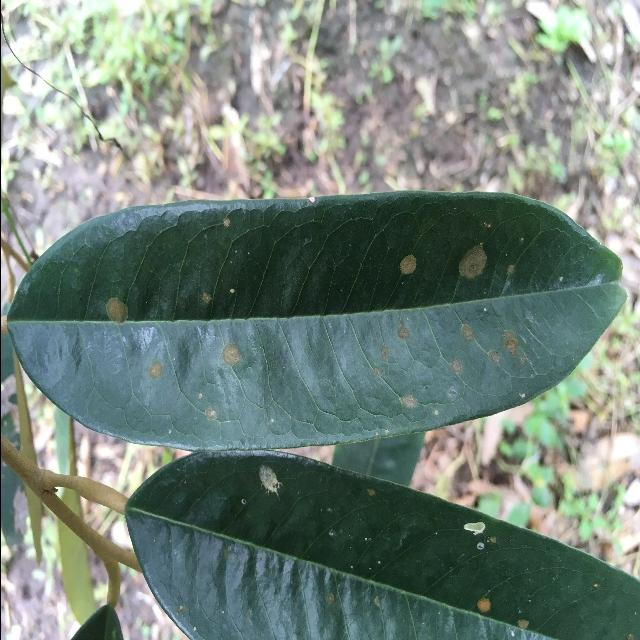Algal Leaf Spot: (0, 185, 640, 461)
